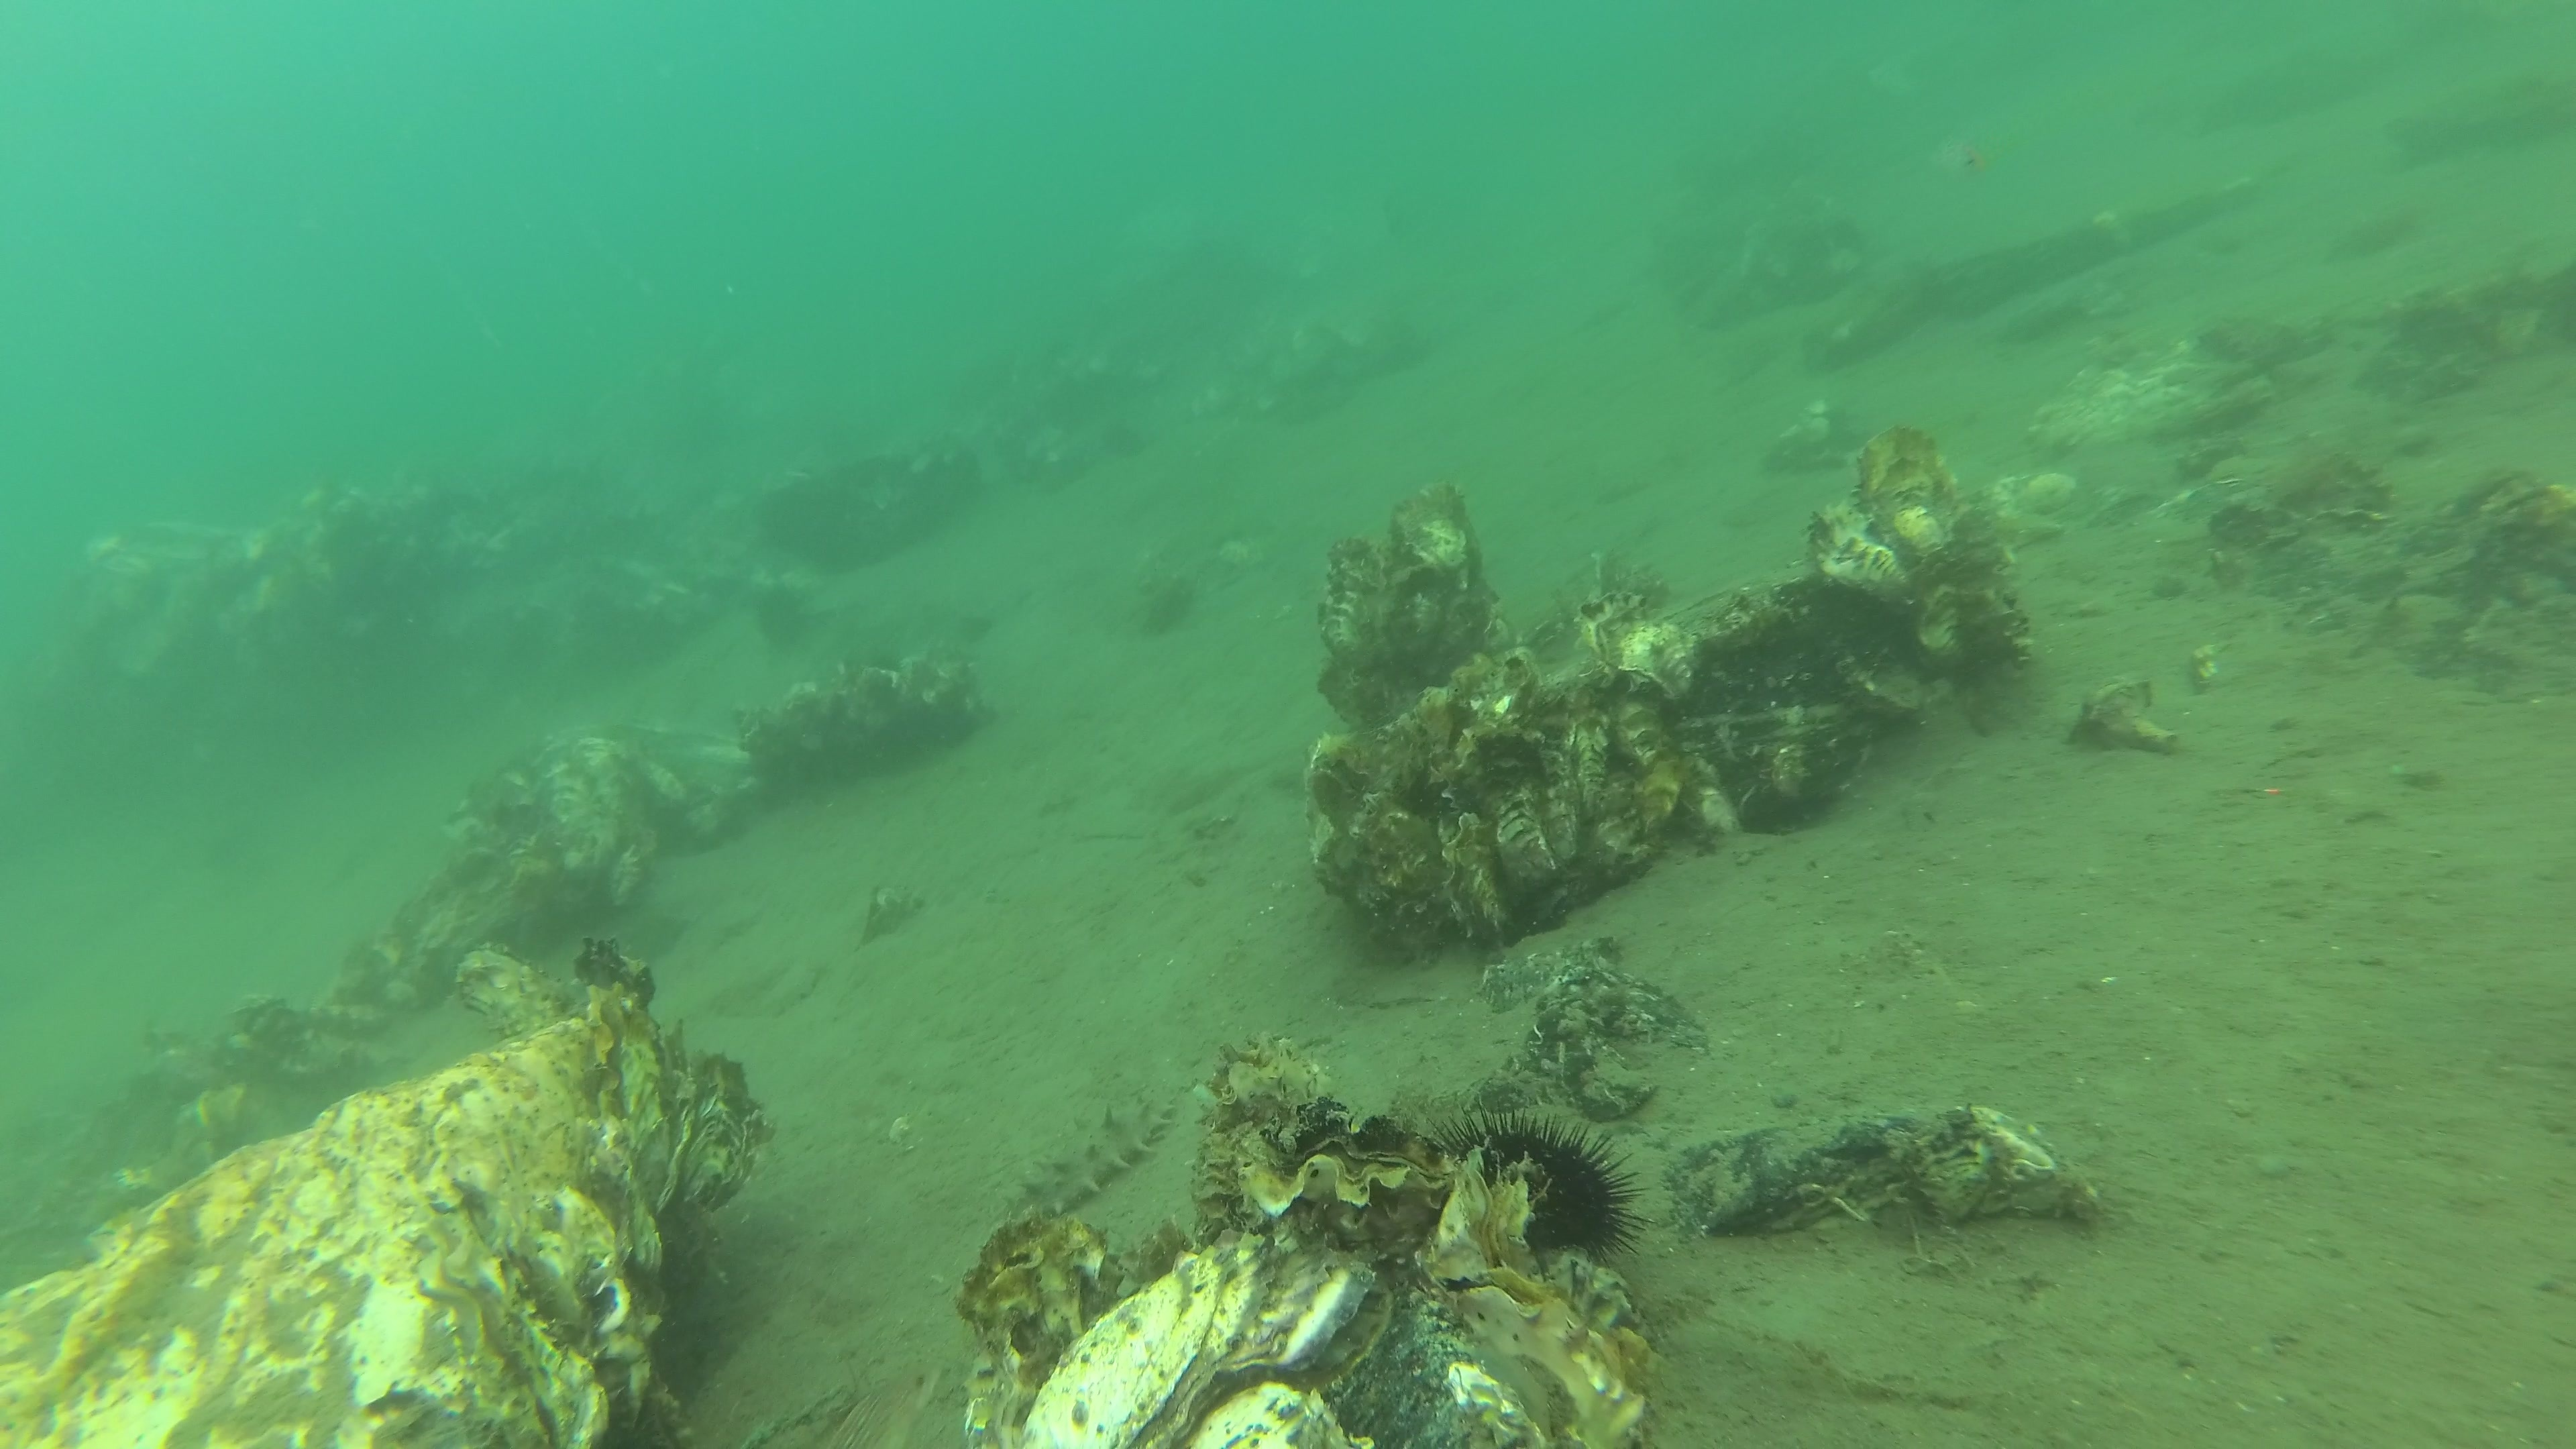echinus: (1426, 1099, 1660, 1269), (754, 580, 814, 649), (1095, 419, 1150, 460)
holothurian: (1001, 1092, 1180, 1217)
